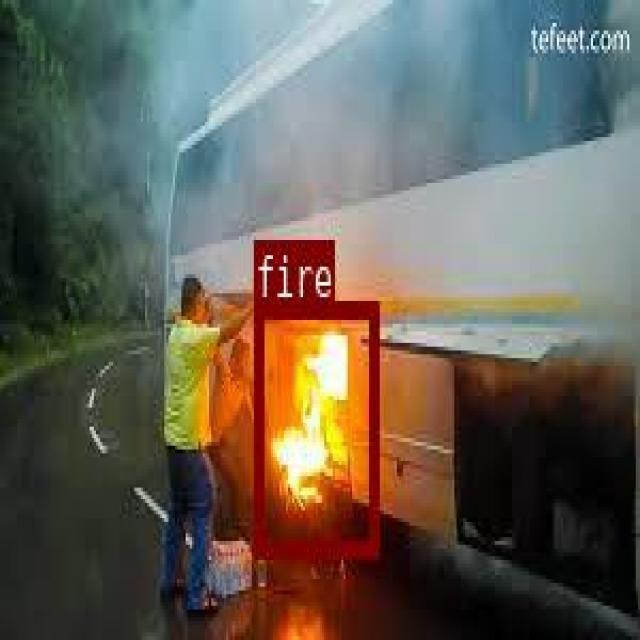fire: (252, 299, 376, 554)
